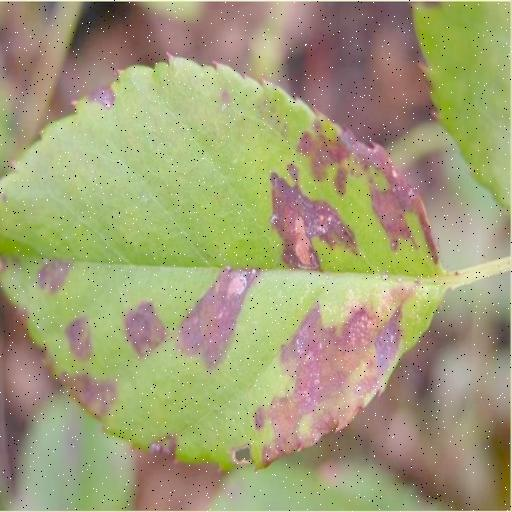downy_mildew: (0, 59, 443, 467)
